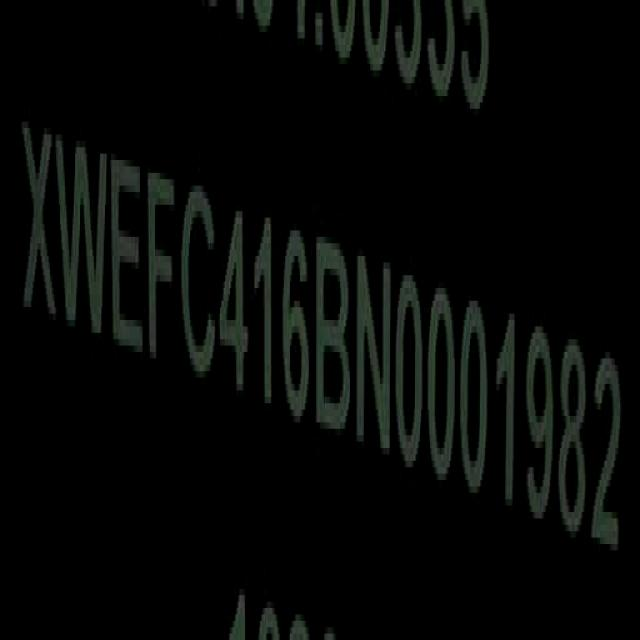0: (395, 261, 426, 479), (458, 292, 487, 504), (429, 279, 456, 493)
1: (498, 298, 519, 518), (257, 211, 277, 421)
2: (594, 348, 624, 565)
4: (218, 194, 248, 407)
6: (283, 214, 313, 431)
8: (558, 329, 589, 542)
9: (525, 317, 554, 529)
B: (314, 227, 351, 448)
C: (184, 172, 219, 392)
E: (111, 141, 146, 369)
F: (146, 152, 179, 379)
N: (358, 245, 396, 470)
W: (56, 120, 110, 356)
X: (20, 103, 58, 340)
